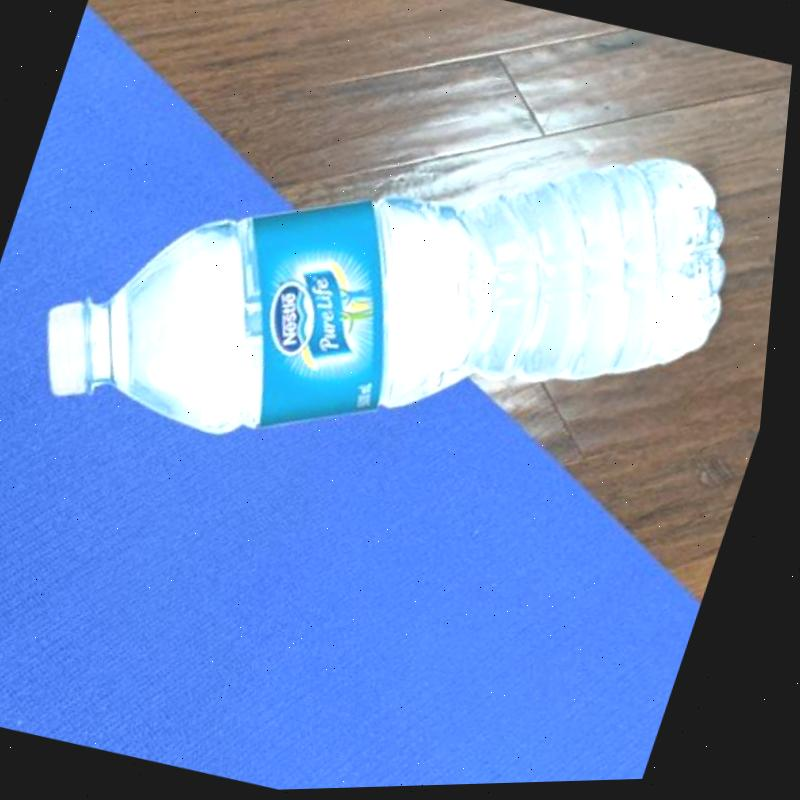botella: (14, 25, 782, 552)
